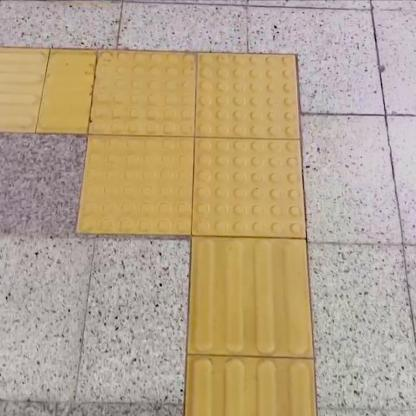podotacti: (45, 18, 327, 292), (186, 243, 315, 415)
